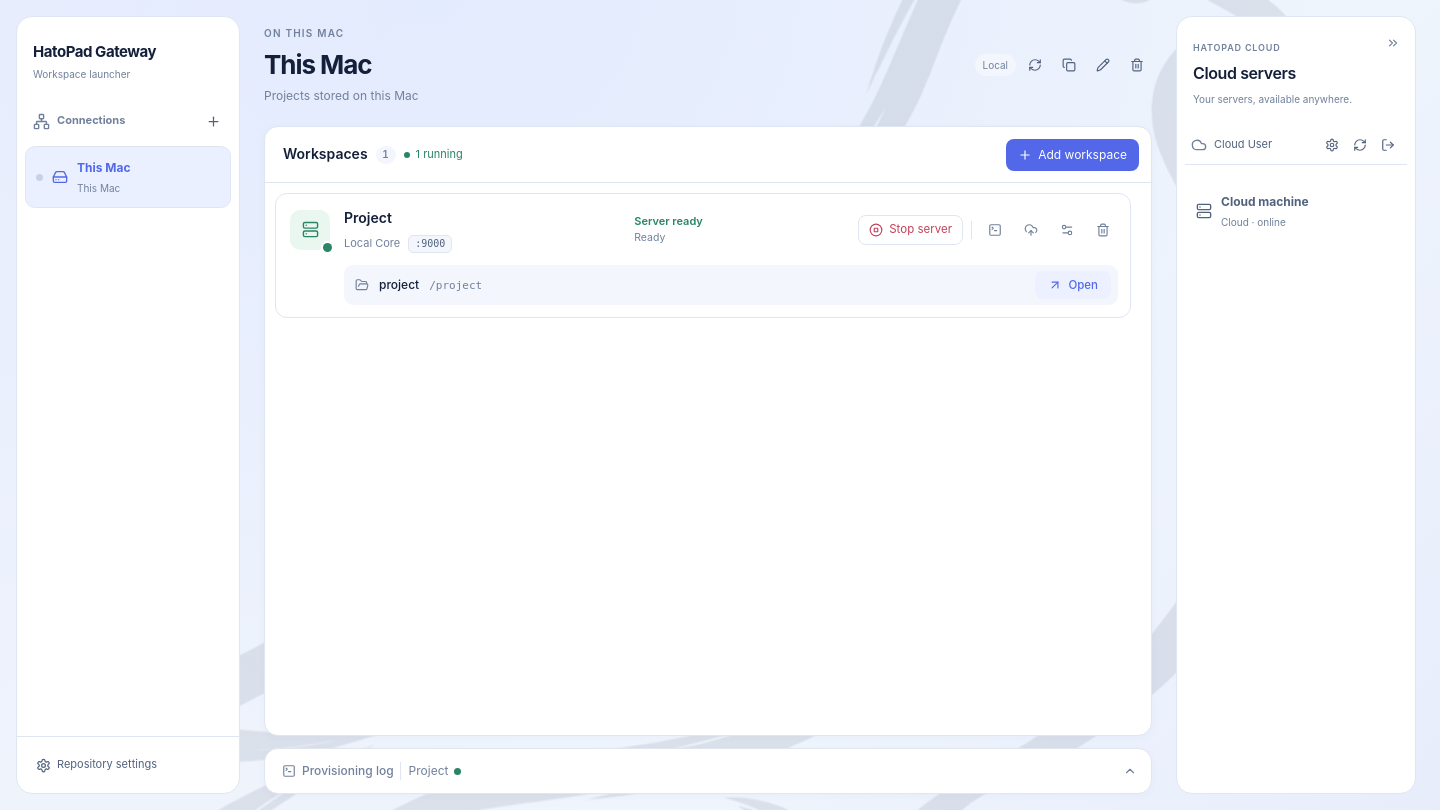
Test: Gateway cloud › preloads cloud Cores before selection and retains them when switching servers
Expected: the text "/srv/project" is not shown
Step 1. Click the button "Cloud machine Cloud · online" → (1296, 211), box [1185, 180, 1407, 242]
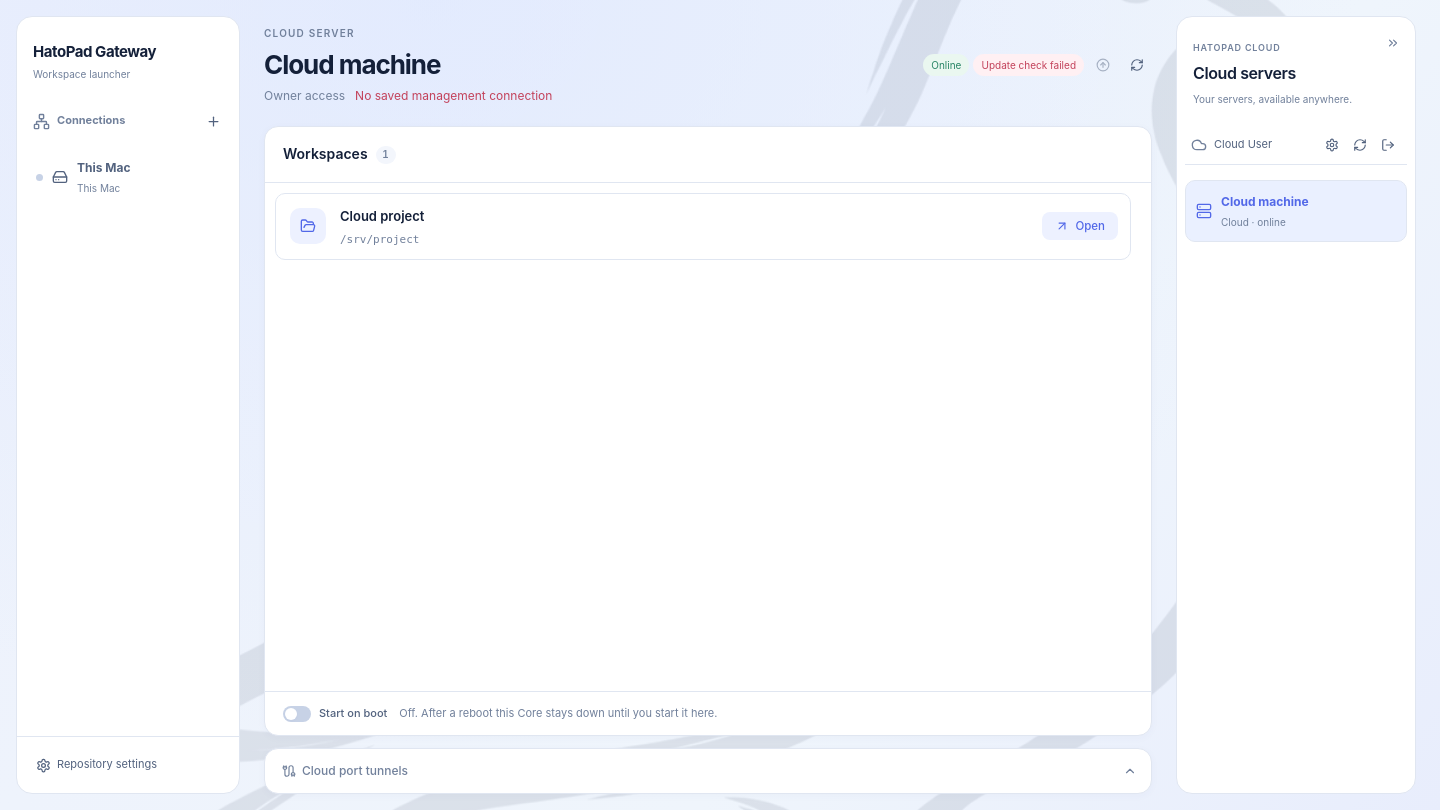
Result: the text "/srv/project" is shown at [340, 233, 420, 246]
Step 2. Click the button with aria-label "This Mac, local Mac" → (128, 177), box [25, 146, 231, 208]
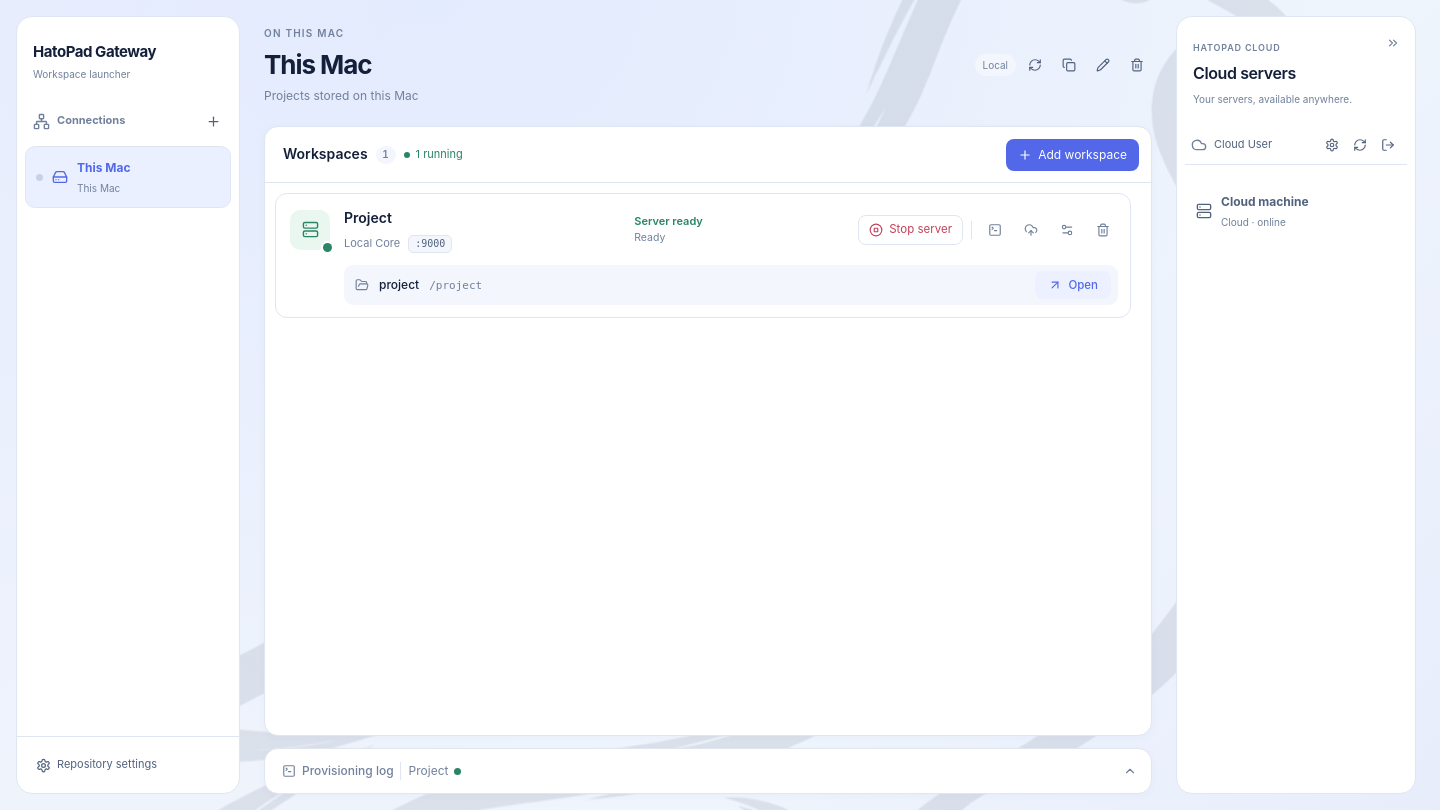
Step 3. Click the button "Cloud machine Cloud · online" → (1296, 211), box [1185, 180, 1407, 242]
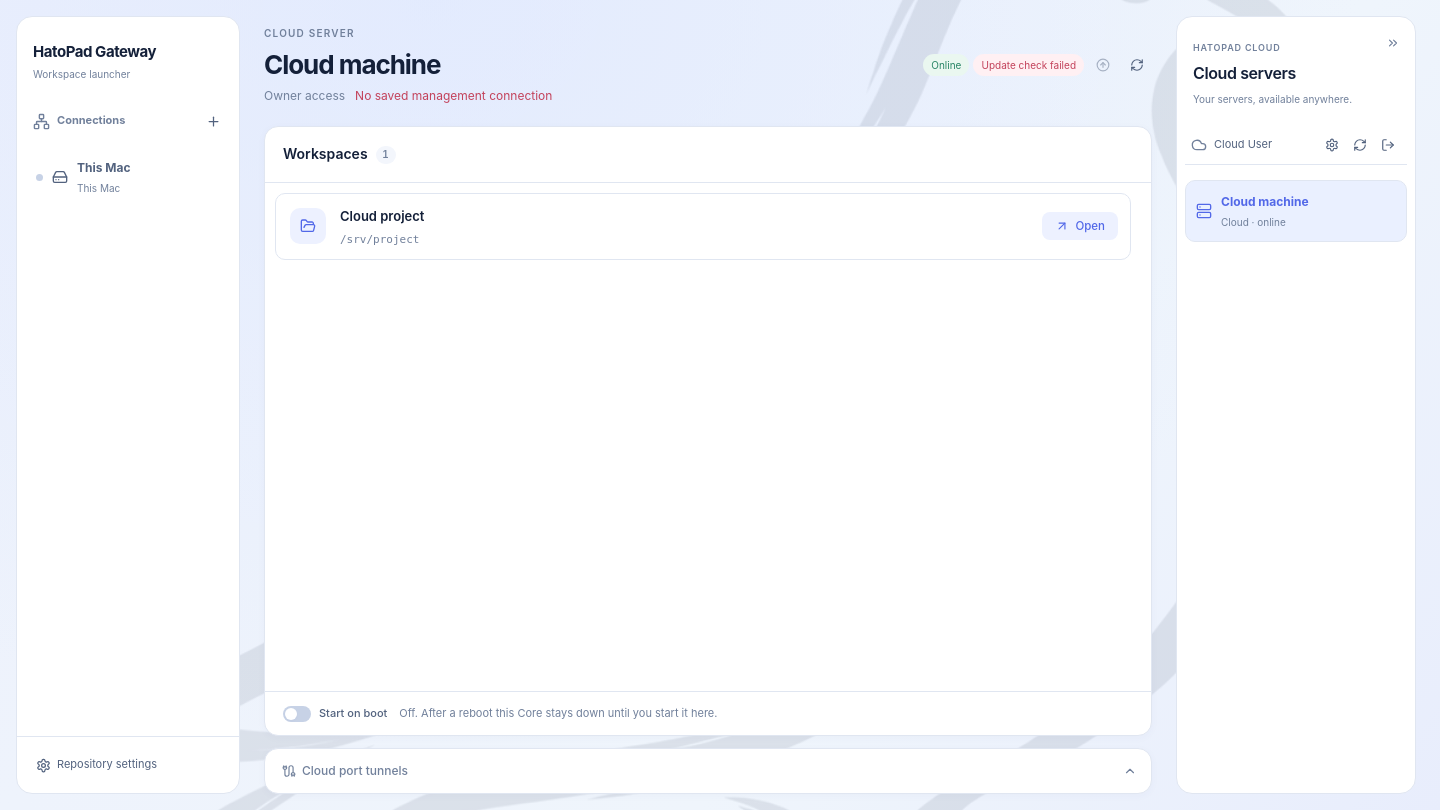
Result: the text "/srv/project" is shown at [340, 233, 420, 246]
